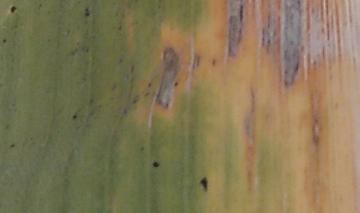tarspot: (199, 176, 209, 192), (238, 4, 245, 24), (151, 160, 160, 169), (142, 90, 152, 98), (121, 106, 128, 117), (9, 5, 17, 14), (129, 62, 135, 74), (83, 11, 91, 19), (138, 144, 146, 152), (210, 57, 217, 66), (87, 97, 94, 106), (1, 38, 9, 45), (71, 113, 78, 121), (8, 142, 16, 149), (116, 24, 123, 32), (37, 2, 43, 11), (131, 98, 138, 105), (173, 80, 179, 88), (118, 56, 124, 64), (146, 81, 152, 88), (164, 102, 170, 109), (84, 46, 89, 54), (156, 4, 162, 10)
